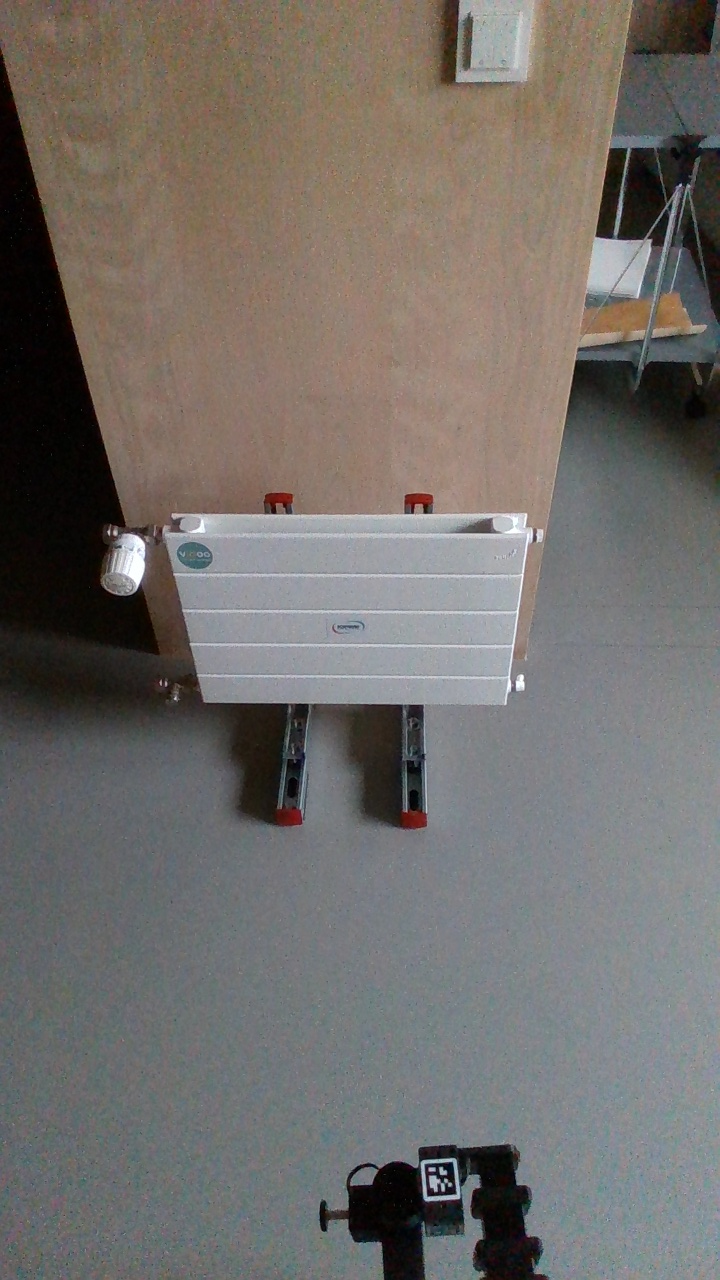Knob_Radiator: (94, 530, 153, 600)
Light_Switch: (453, 1, 529, 84)
Radiator: (164, 506, 529, 710)
